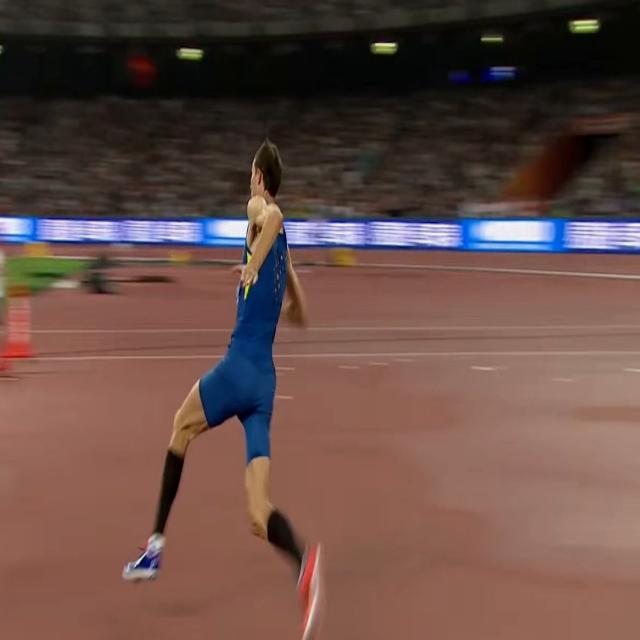run: (122, 136, 324, 640)
